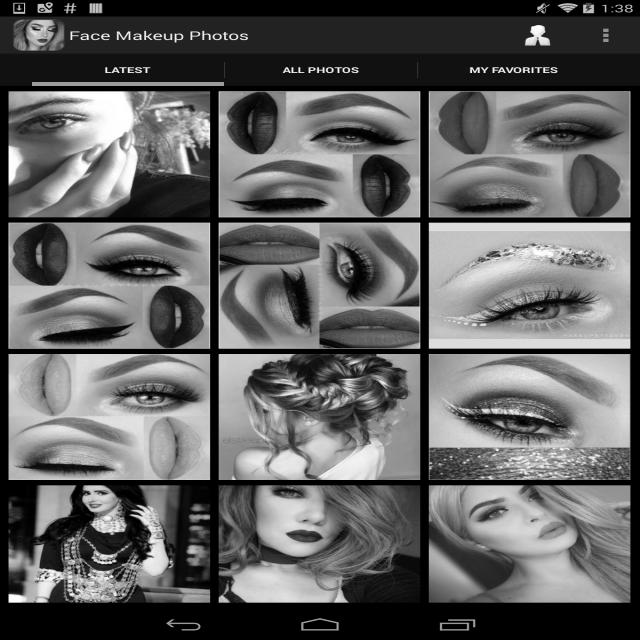ImageView: (219, 91, 420, 218), (429, 91, 630, 218), (9, 222, 210, 348), (219, 222, 420, 348), (429, 222, 630, 348), (9, 354, 210, 480), (219, 354, 420, 480), (429, 354, 630, 480), (9, 486, 210, 612), (219, 486, 420, 612), (429, 486, 630, 612), (14, 19, 64, 52)
TextView: (69, 27, 249, 43), (571, 16, 640, 54), (503, 17, 572, 54), (469, 64, 558, 76), (282, 64, 360, 76), (104, 64, 151, 76)
